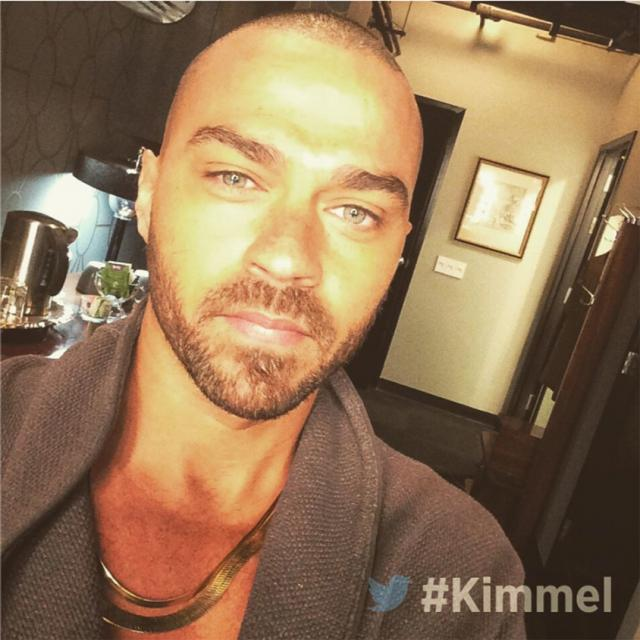earlobe: (134, 149, 157, 243)
